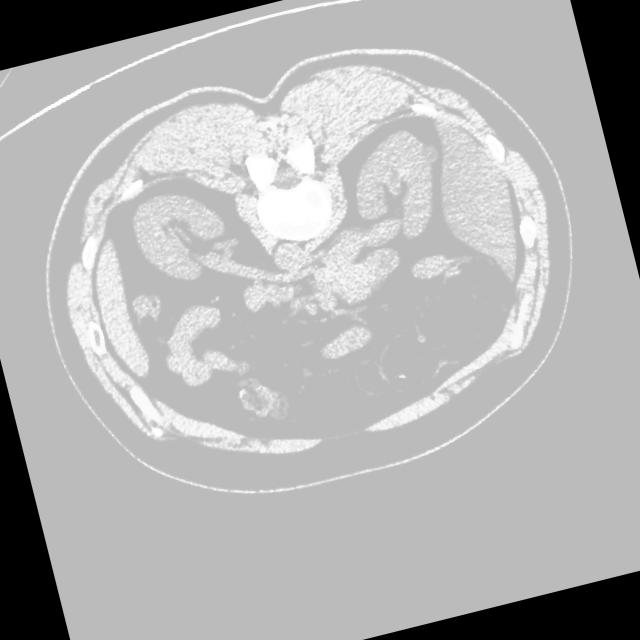cysts: (14, 11, 604, 521)
